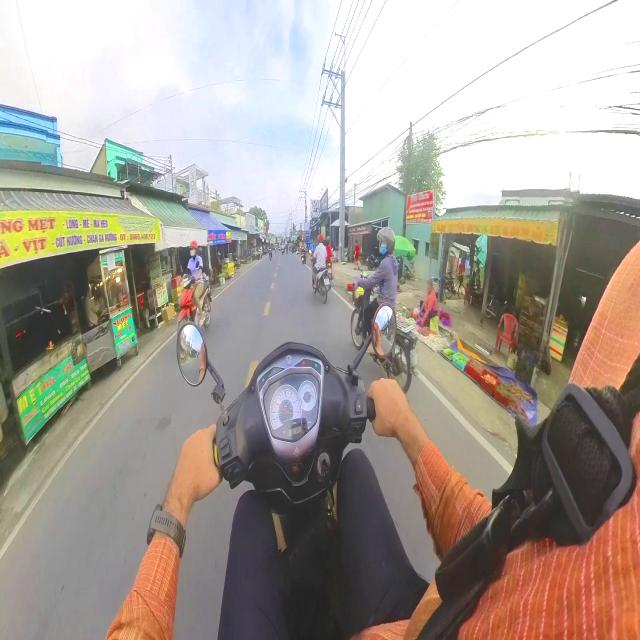motorcycle: (177, 323, 375, 637), (373, 329, 417, 392), (179, 274, 199, 325), (314, 267, 330, 303)
